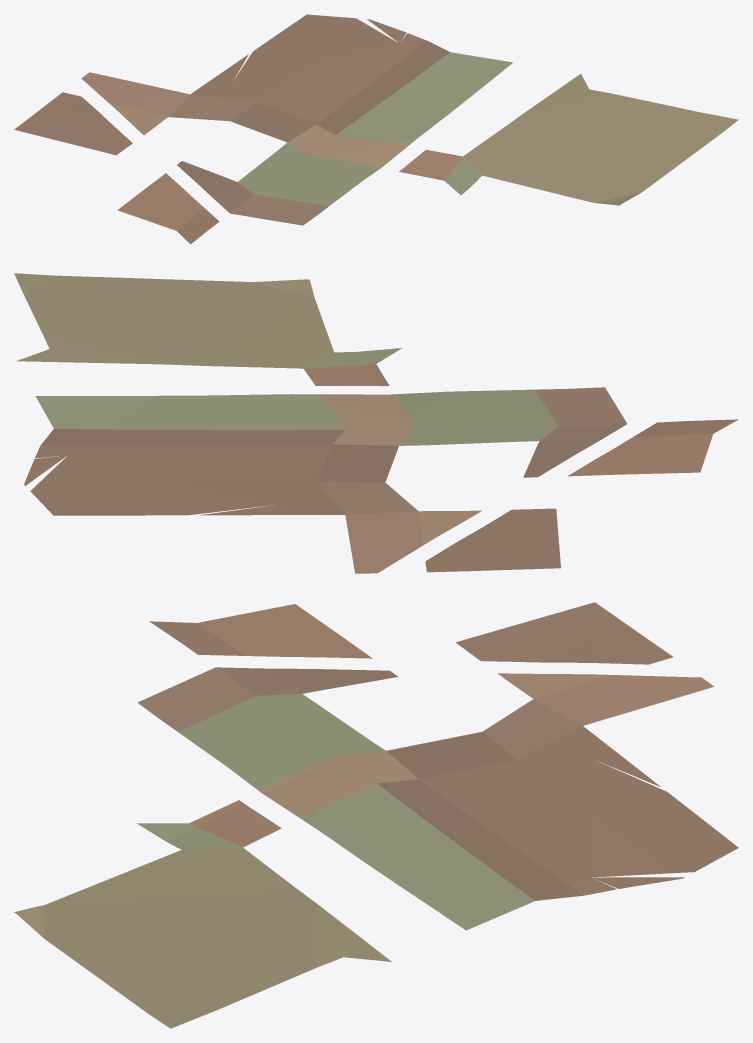
The model's file is farm_5_13_soil.glb.
3 views of the same model, one above another, from view 1: azimuth 30°, elevation 25°; view 2: azimuth 150°, elevation 25°; view 3: azimuth 270°, elevation 25° (orthographic). The views are drawn at different scales.
Visible parts, largest first — view 1: geometry_0; view 2: geometry_0; view 3: geometry_0.
Boxes of the visible parts, box(x1,y1,x2,y2) form: geometry_0: box(14, 14, 738, 244); geometry_0: box(14, 273, 738, 573); geometry_0: box(14, 602, 738, 1028).
Size of the model in its own units: 277 by 11.81 by 212.
